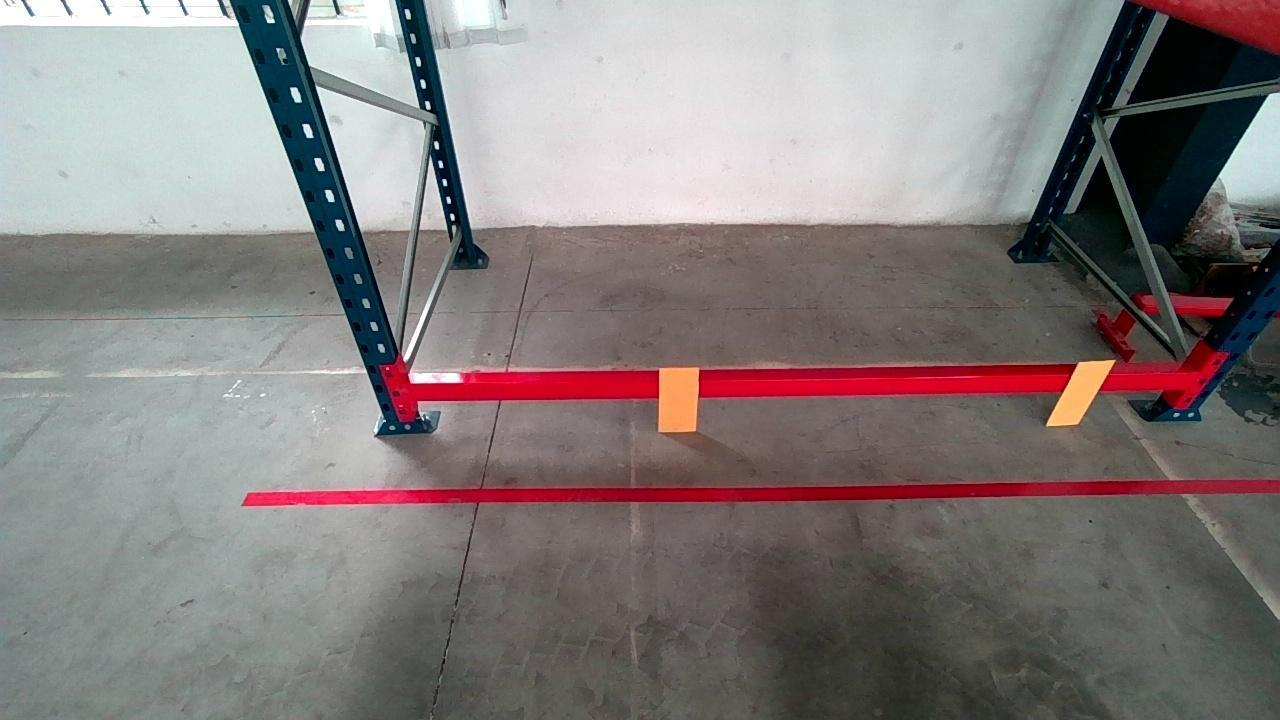h_rack: (408, 371, 1206, 401)
orange_strip: (1047, 359, 1116, 424), (659, 367, 699, 431)
red_line: (242, 478, 1280, 506)
